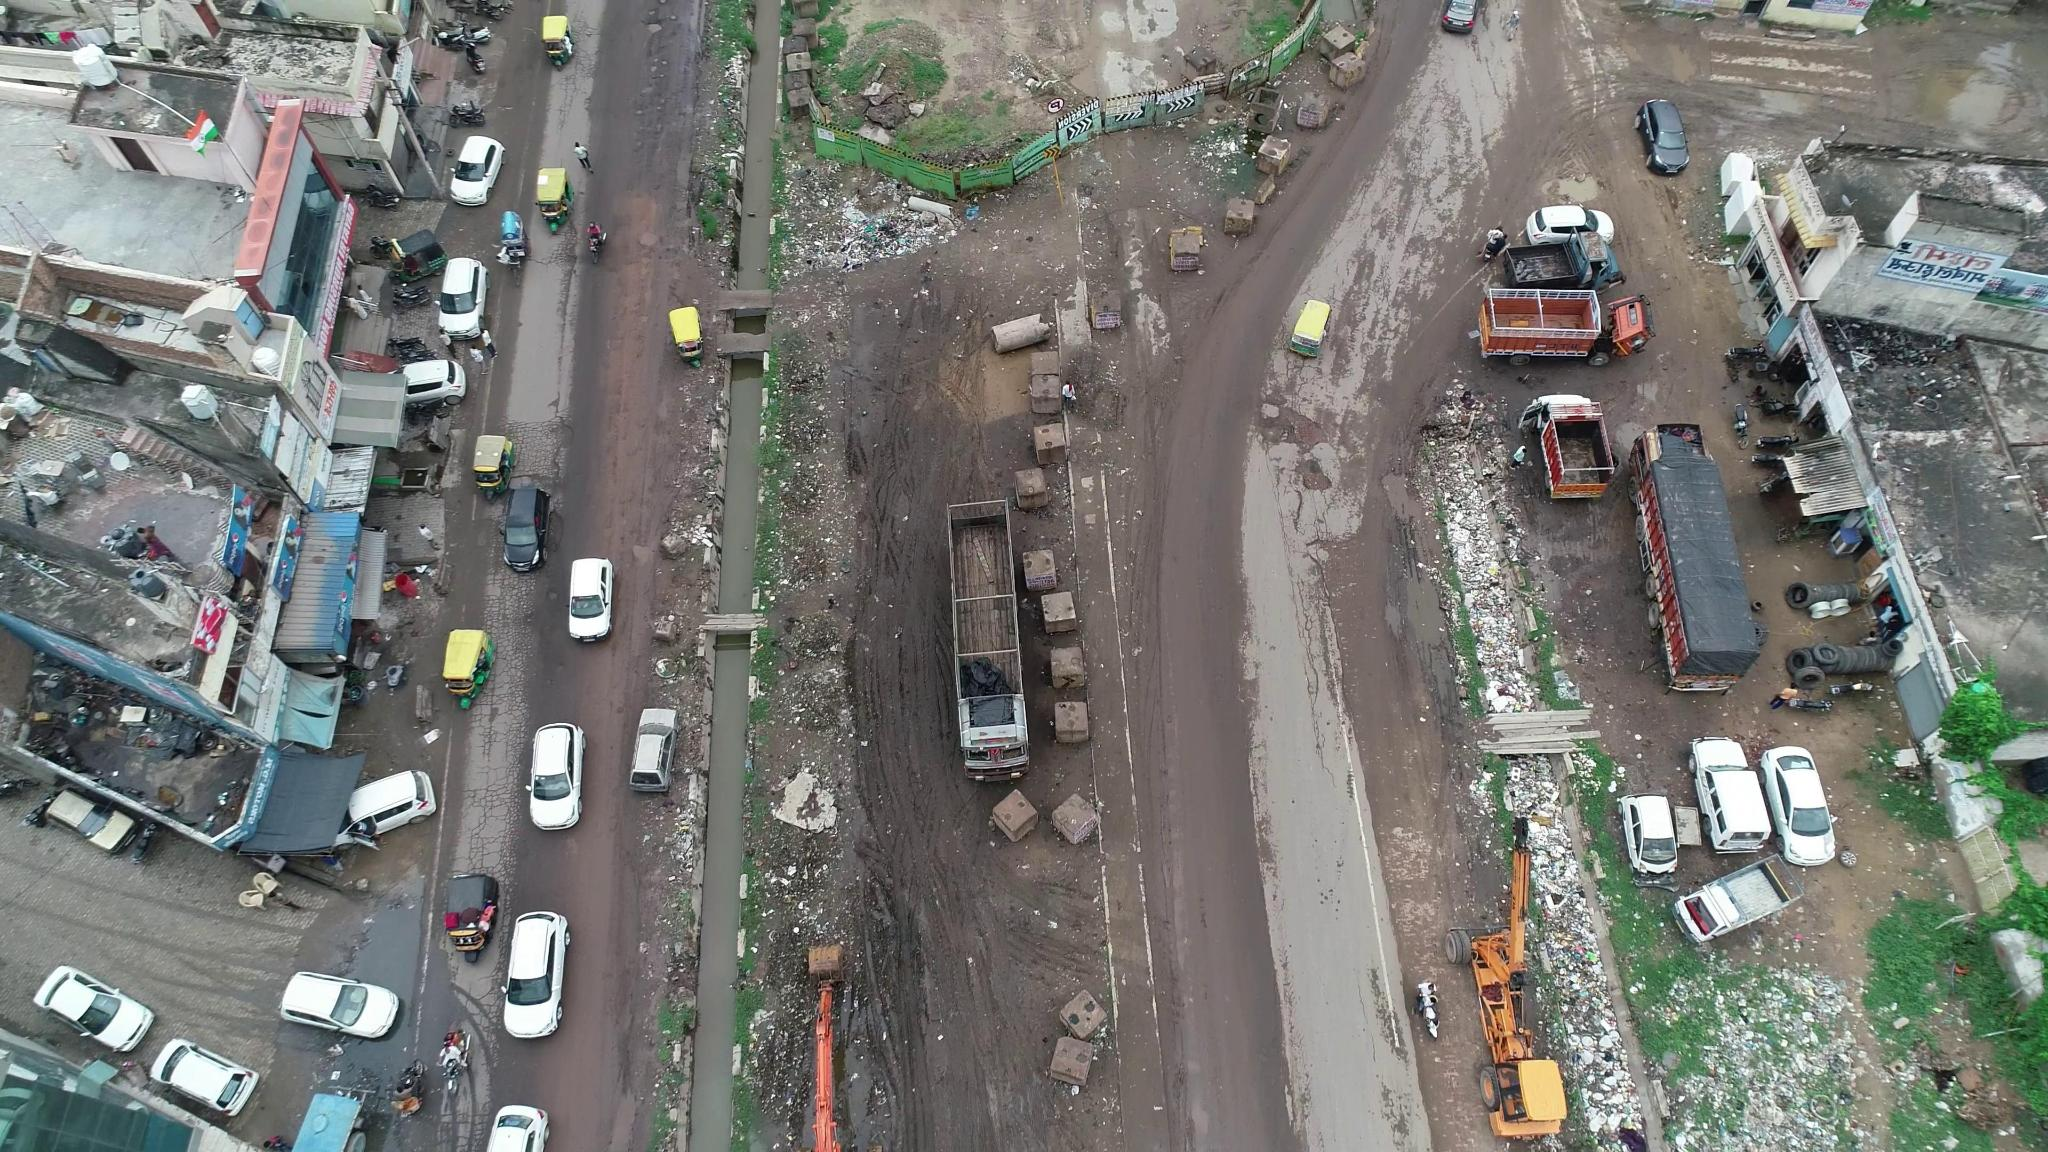Cracks: (459, 693, 526, 872), (1281, 558, 1338, 762), (1385, 98, 1456, 228), (487, 578, 533, 689), (511, 415, 565, 473)
Muddy_road: (1146, 499, 1257, 823), (1172, 859, 1295, 1127), (587, 352, 660, 530), (567, 926, 627, 1106), (556, 828, 615, 919)
Road_side_garbage: (1525, 813, 1656, 1127), (1440, 467, 1556, 688), (807, 207, 921, 273)
